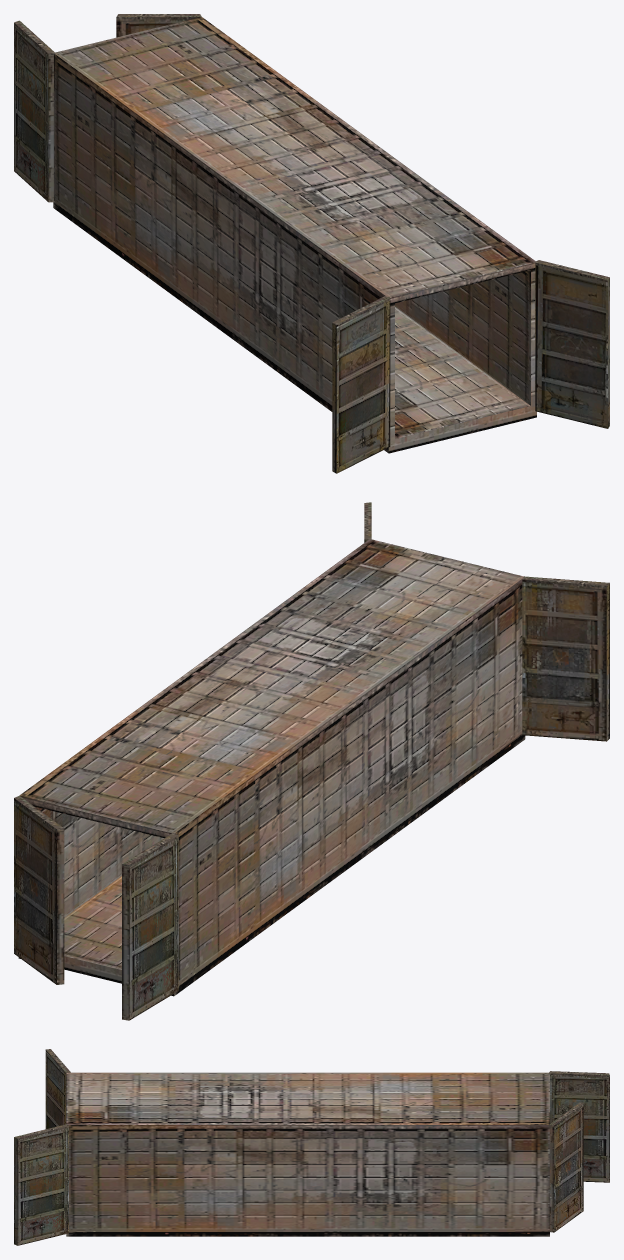
The model's file is cargo03.glb.
3 views of the same model, one above another, from view 1: azimuth 30°, elevation 25°; view 2: azimuth 150°, elevation 25°; view 3: azimuth 270°, elevation 25° (orthographic). The views are drawn at different scales.
Visible parts, largest first — view 1: _cargo03; view 2: _cargo03; view 3: _cargo03.
Boxes of the visible parts, bbox=[...] form: _cargo03: bbox=[14, 14, 609, 473]; _cargo03: bbox=[14, 502, 609, 1020]; _cargo03: bbox=[14, 1049, 609, 1245].
Bounding box in the file's own units: 5.15 × 3 × 14.48.
1 material, 1 textured.
